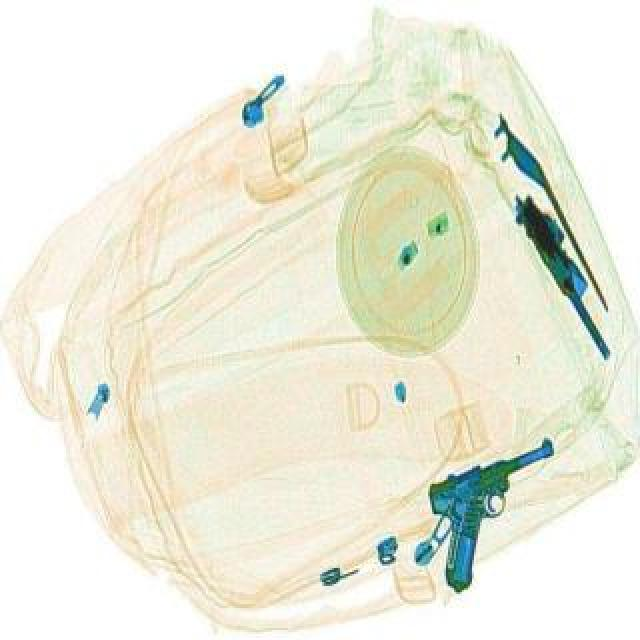gun: (404, 434, 596, 590), (502, 184, 632, 362)
